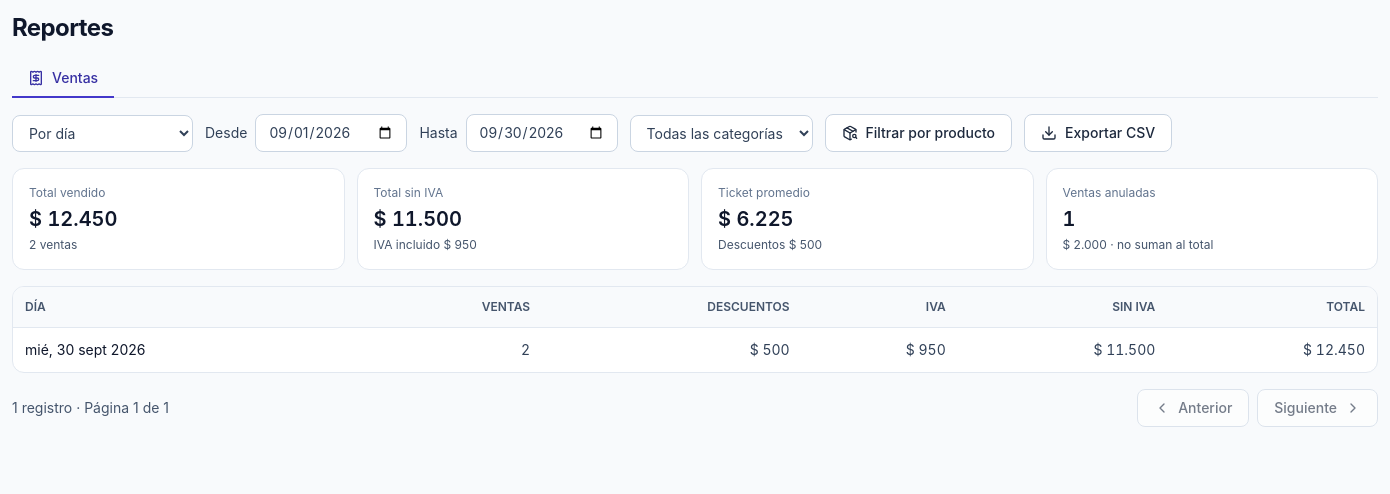
Test: ReportsPage › shows why an export failed
Expected: the text "Total vendido" is shown, [29,185,105,200]
Click the button "Exportar CSV" at (1098, 133), box [1024,114,1172,152]
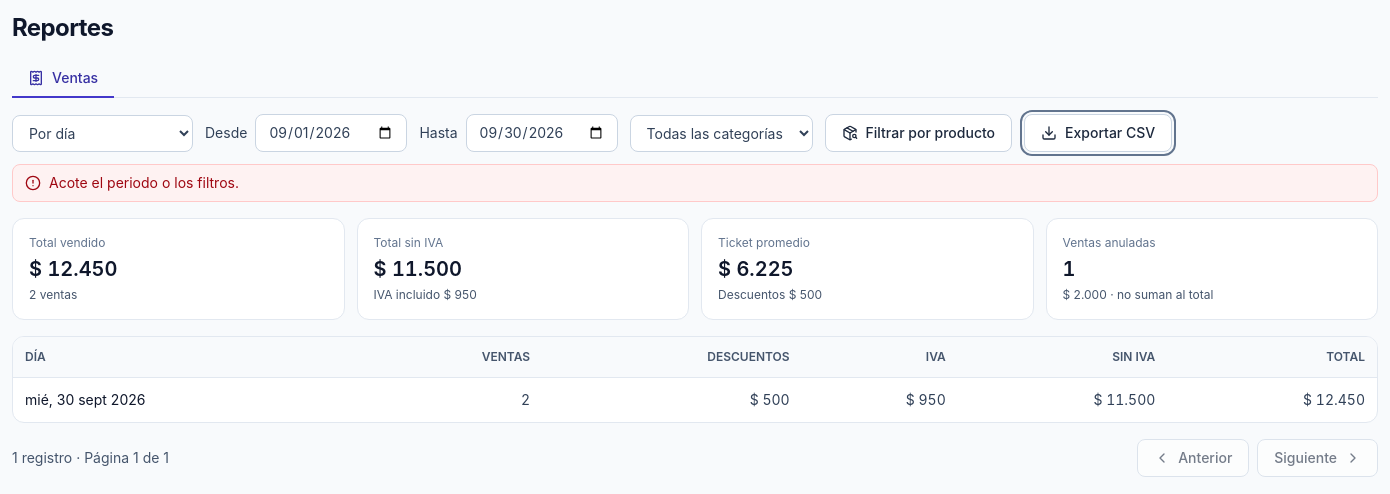
Expected: the message reads "Acote el periodo o los filtros.", [49,174,239,191]
